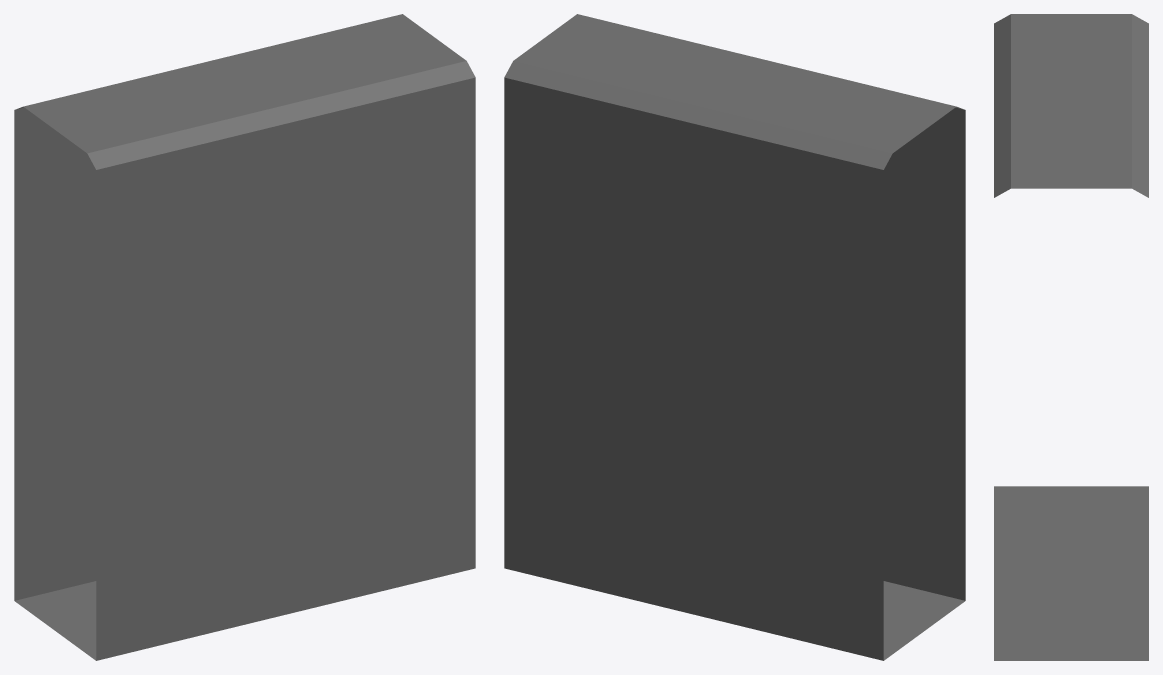
The model's file is Itr_Couch_Outside_Back_Middle_03.FBX.
3 views of the same model, side by side, from view 1: azimuth 30°, elevation 25°; view 2: azimuth 150°, elevation 25°; view 3: azimuth 270°, elevation 25° (orthographic). The views are drawn at different scales.
Visible parts, largest first — view 1: Itr_Couch_Outside_Back_Middle_03; view 2: Itr_Couch_Outside_Back_Middle_03; view 3: Itr_Couch_Outside_Back_Middle_03.
Boxes of the visible parts, bbox=[...] form: Itr_Couch_Outside_Back_Middle_03: bbox=[14, 14, 475, 660]; Itr_Couch_Outside_Back_Middle_03: bbox=[504, 14, 965, 660]; Itr_Couch_Outside_Back_Middle_03: bbox=[994, 14, 1148, 660].
Bounding box in the file's own units: 19.21 × 24.24 × 7.19.
